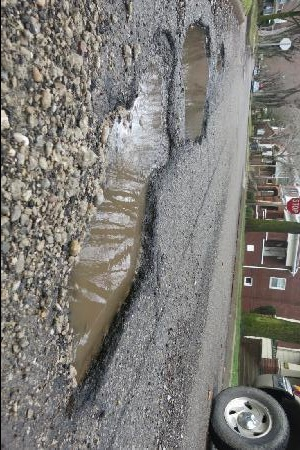pothole: (55, 25, 176, 412), (181, 16, 215, 146), (215, 40, 228, 72)
